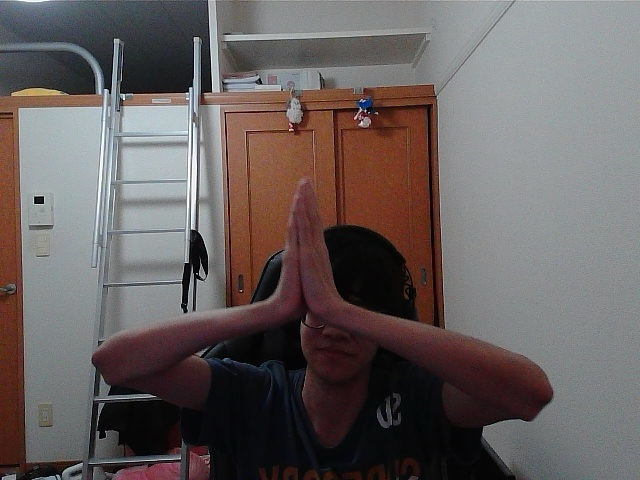pray: (293, 195, 321, 301)
